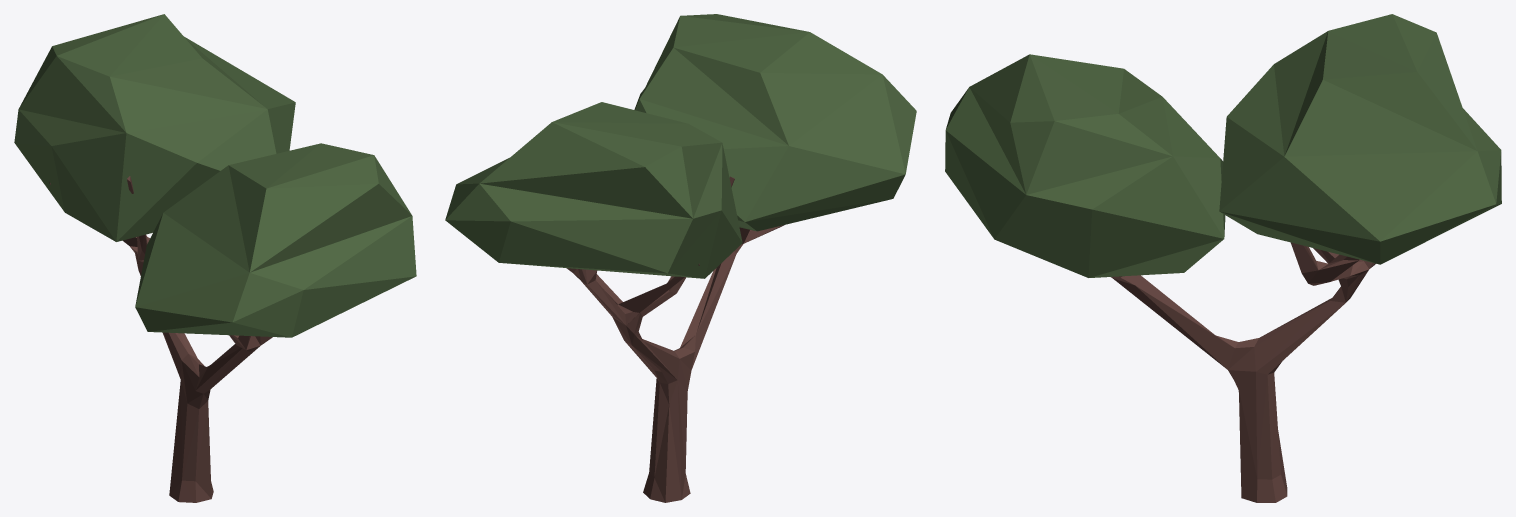
Rendered from CommonTree_1_lod.glb.
The picture shows the model from 3 angles, left to right: view 1: azimuth 30°, elevation 25°; view 2: azimuth 150°, elevation 25°; view 3: azimuth 270°, elevation 25°; orthographic projection. The views are drawn at different scales.
Visible parts, largest first — view 1: CommonTree_1; view 2: CommonTree_1; view 3: CommonTree_1.
Boxes of the visible parts, bbox=[...] form: CommonTree_1: bbox=[14, 14, 416, 502]; CommonTree_1: bbox=[445, 14, 916, 502]; CommonTree_1: bbox=[945, 14, 1501, 502].
Size of the model in its own units: 1.89 by 2.44 by 2.77.
